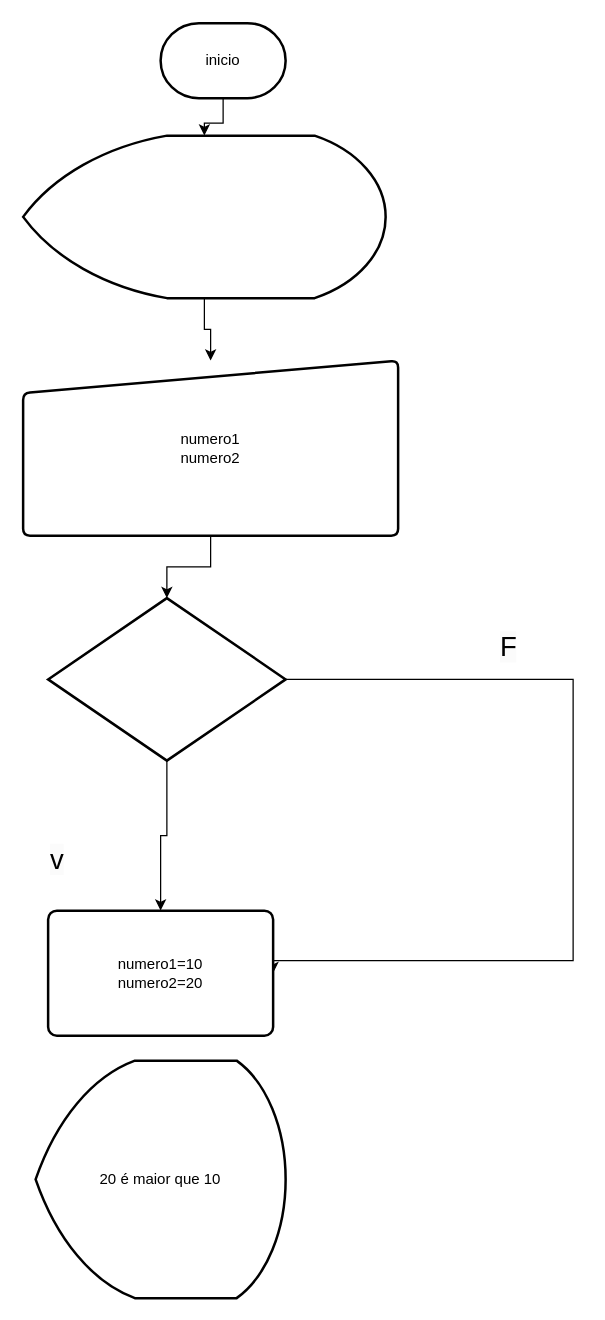
This 605x1320 diagram has some shape labels left out. Here are the shapes that lost their labels. From the top down, the centre of each, then its label:
[203,216]: digite o primeiro numero digite o segundo numero
[166,678]: numero1>numero2 ou numero2>numero1
